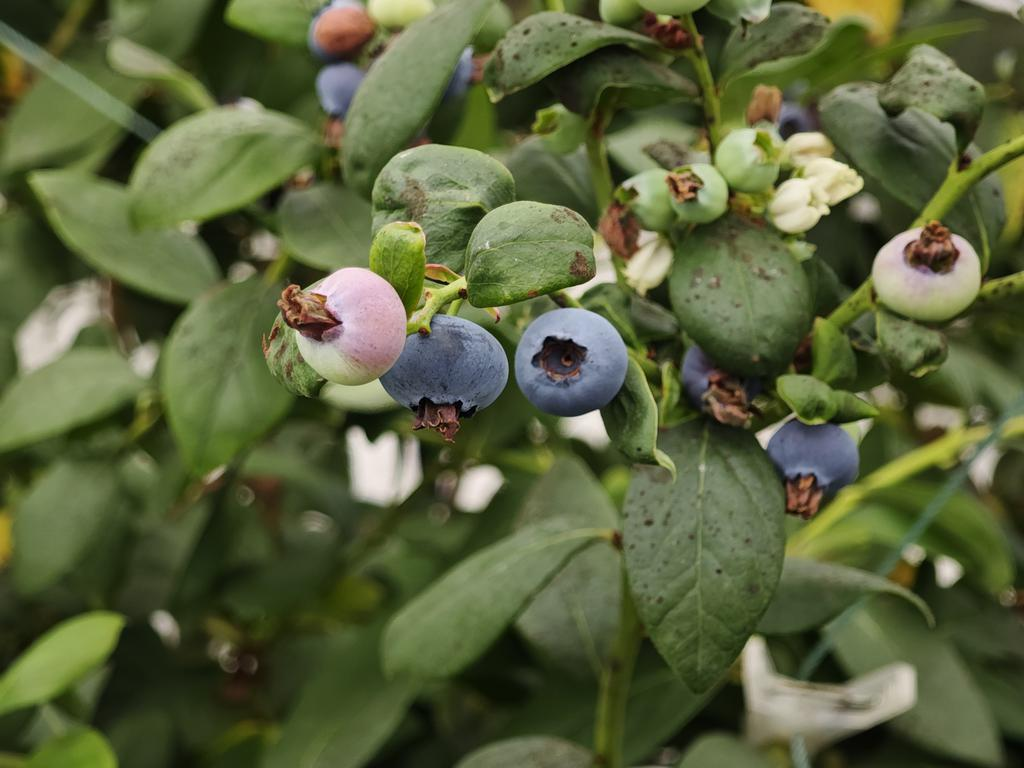RipeBlueBerry: (380, 313, 512, 425), (514, 307, 629, 419)
Semi-RipeBlueBerry: (280, 262, 411, 387)
UnripeBlueBerry: (868, 220, 984, 325)
